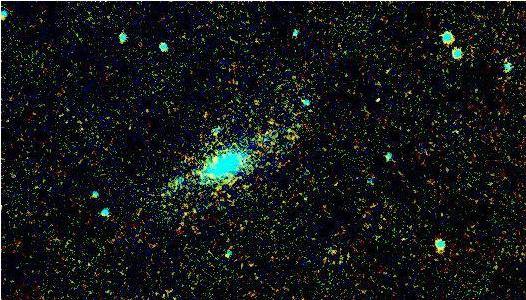star: (318, 239, 348, 269)
